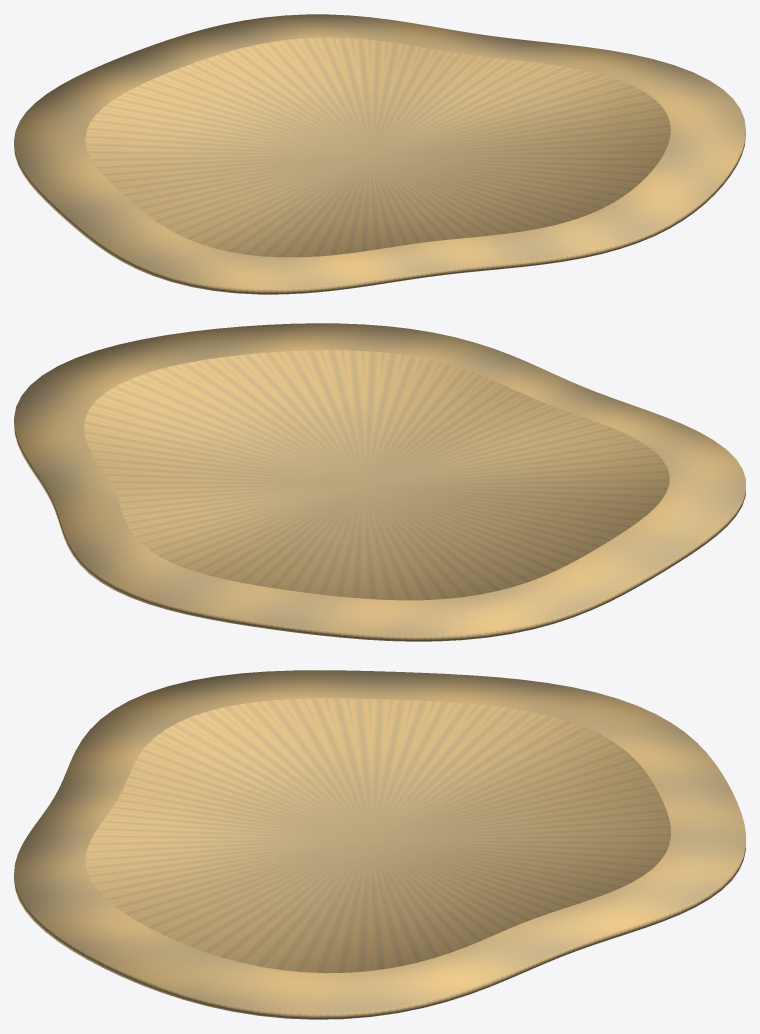
Rendered from ISL-L_LOD0_Beach.fbx.
3 renders of one model, top to bottom at view 1: azimuth 30°, elevation 25°; view 2: azimuth 150°, elevation 25°; view 3: azimuth 270°, elevation 25°, orthographic. The views are drawn at different scales.
Visible parts, largest first — view 1: ISL-L_LOD0_Beach; view 2: ISL-L_LOD0_Beach; view 3: ISL-L_LOD0_Beach.
Boxes of the visible parts, x1,y1,x2,y2 form: ISL-L_LOD0_Beach: (14,14,745,294); ISL-L_LOD0_Beach: (14,323,745,641); ISL-L_LOD0_Beach: (14,670,745,1019).
Bounding box in the file's own units: 188 × 170 × 2.7.
